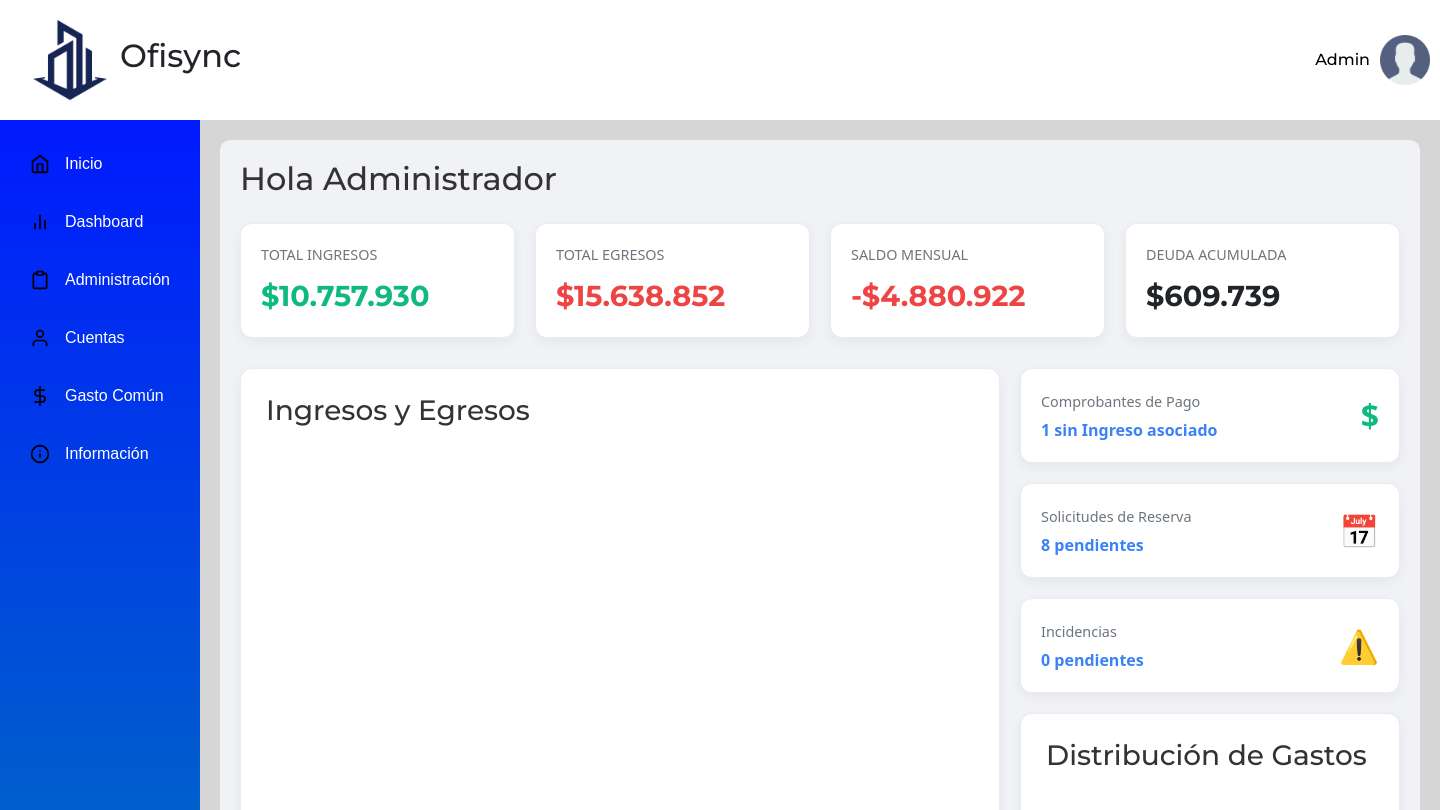
Test: Prueba de Integración de Navegación en App › debería navegar a la página de Gasto Común al hacer clic en el enlace
Note: Buscamos el enlace por su texto exacto
What coordinates should you click on to do the following:
click the link "Gasto Común"
I would click on:
 (97, 396)
Its box is [30,386,164,406].
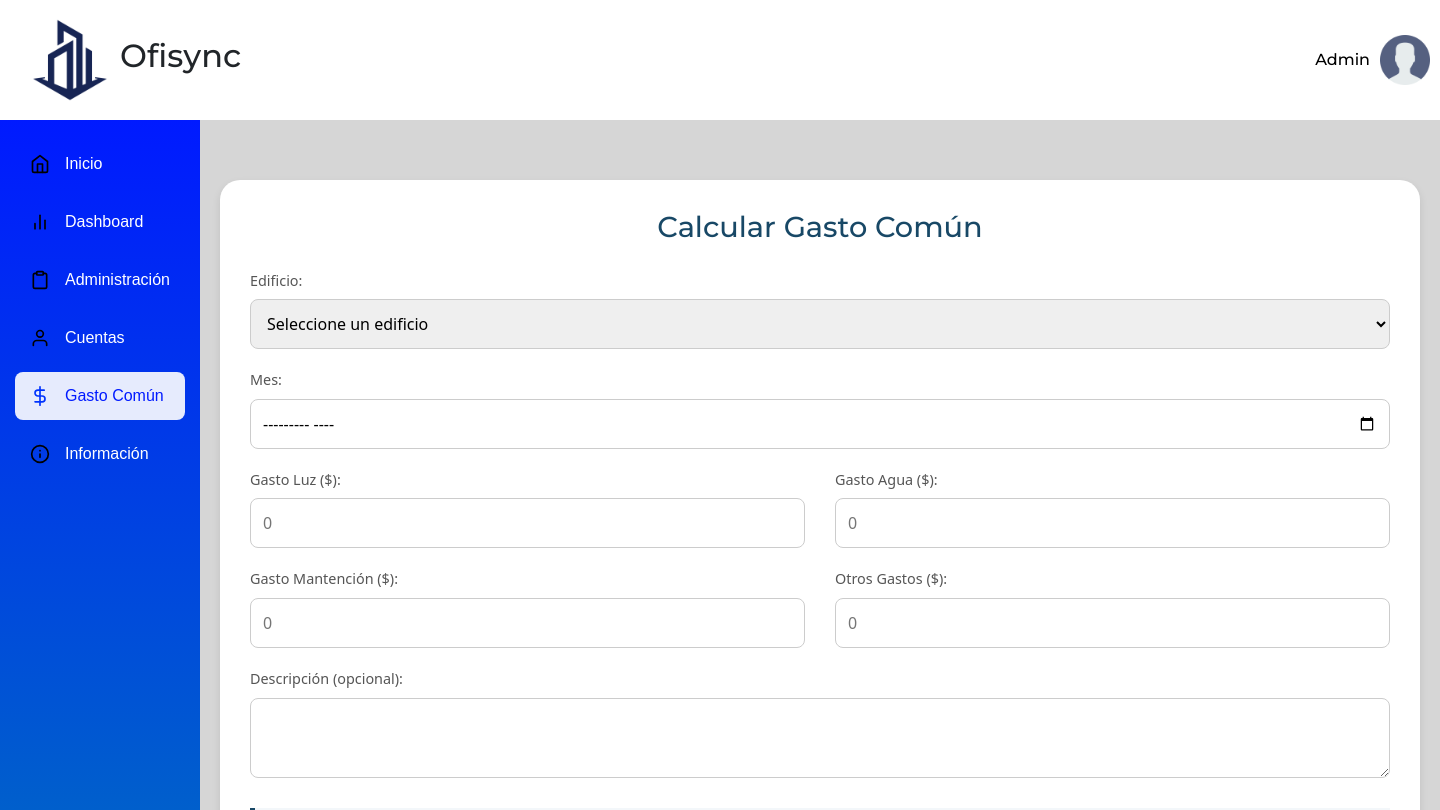
Result: the heading "Calcular Gasto Común" is shown at [657,209,983,244]
